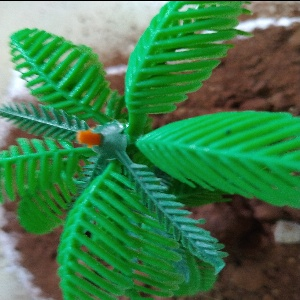plant: (6, 16, 274, 299)
